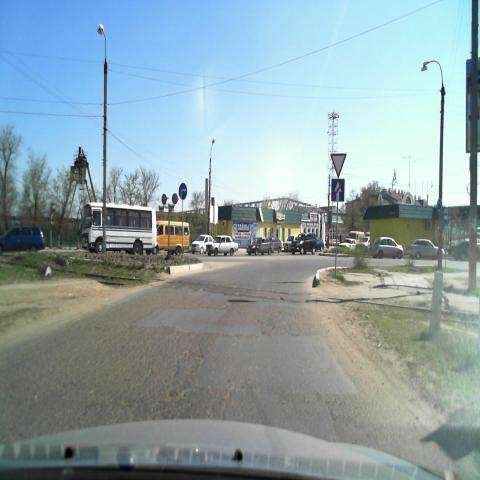4_1_2: (178, 182, 188, 201)
